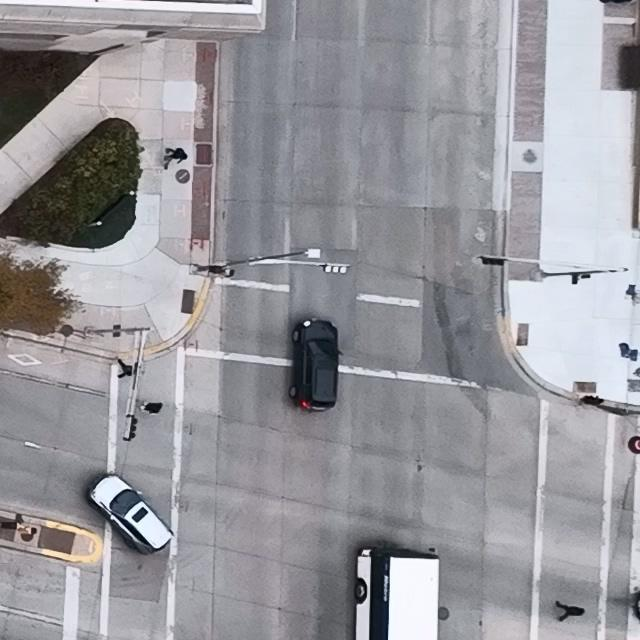car: (353, 548, 439, 640), (88, 474, 175, 554), (288, 318, 343, 412)
